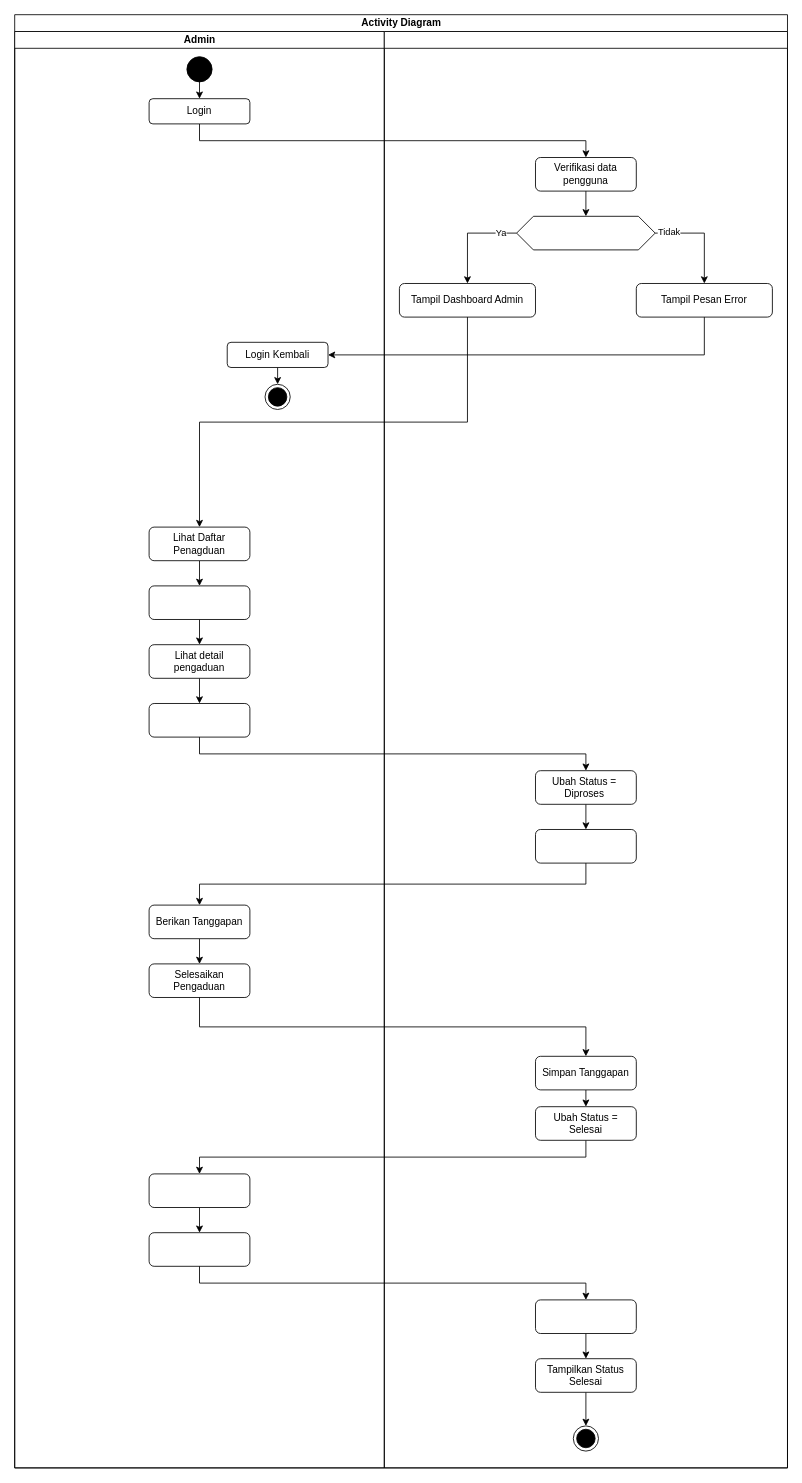
The diagram is 802 pixels wide and 1483 high, and some of its shapes have lost their labels. The box of each missing label's shape, as (x1, y1, x2, y2) in pixels:
Kelola Data User: (148, 1173, 250, 1208)
Login Berhasil?: (516, 215, 655, 250)
Pilih Pengaduan: (148, 585, 250, 620)
Proses Pengaduan: (148, 703, 250, 737)
Simpan Perubahan Data User: (535, 1299, 636, 1334)
Simpan perubahan status: (535, 829, 636, 863)
Sistem: (383, 31, 788, 1468)
Tambah/Edit/Hapus user: (148, 1232, 250, 1266)
